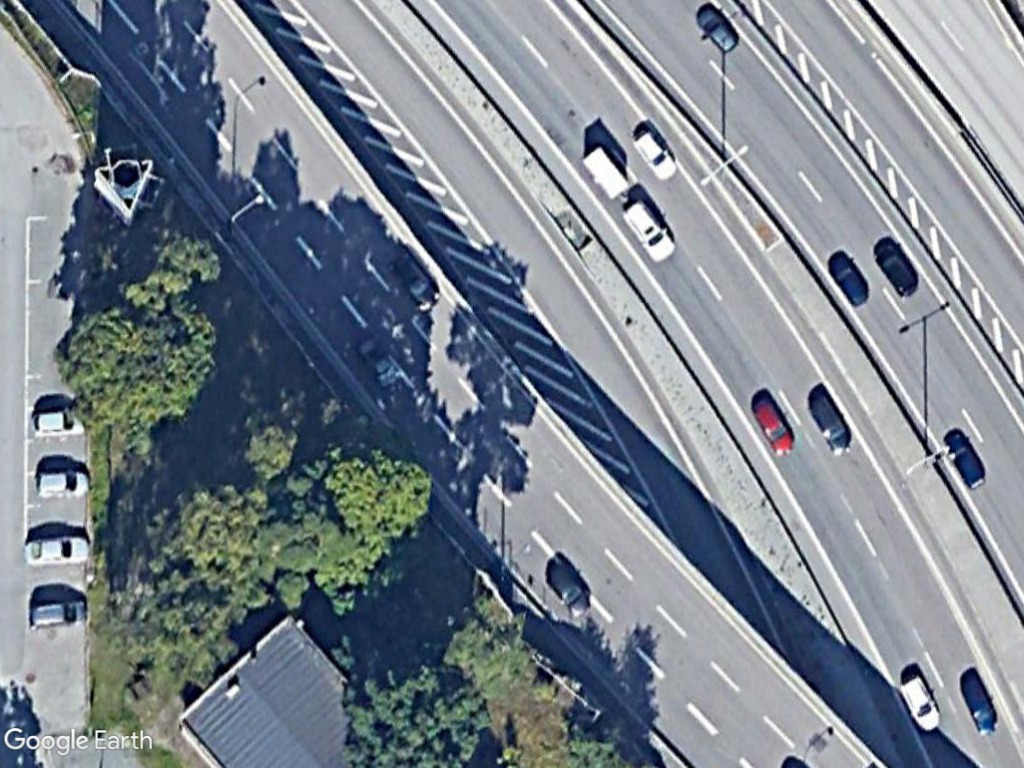car: (616, 197, 681, 267), (744, 392, 801, 461), (952, 669, 1006, 740), (803, 385, 857, 455), (818, 246, 874, 312), (539, 557, 596, 621), (940, 428, 995, 494), (625, 124, 682, 187), (870, 239, 927, 302), (20, 525, 91, 573), (691, 0, 745, 60), (31, 458, 94, 505), (25, 593, 91, 636)
van: (893, 667, 946, 736)
